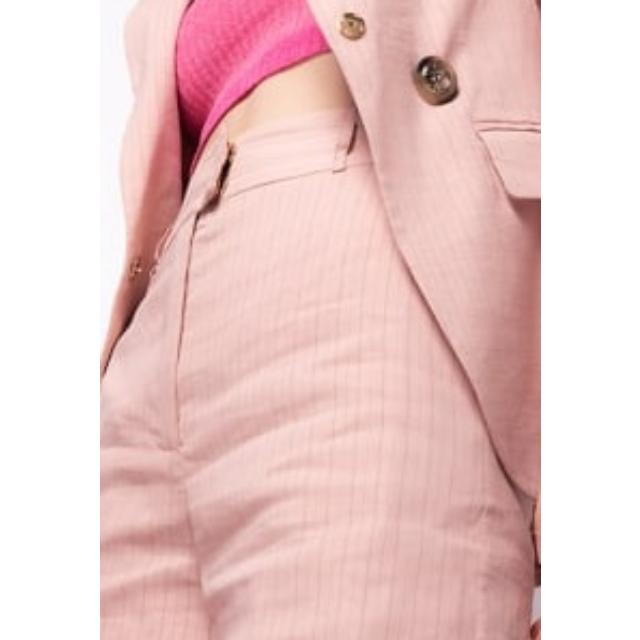linen: (100, 0, 540, 640)
